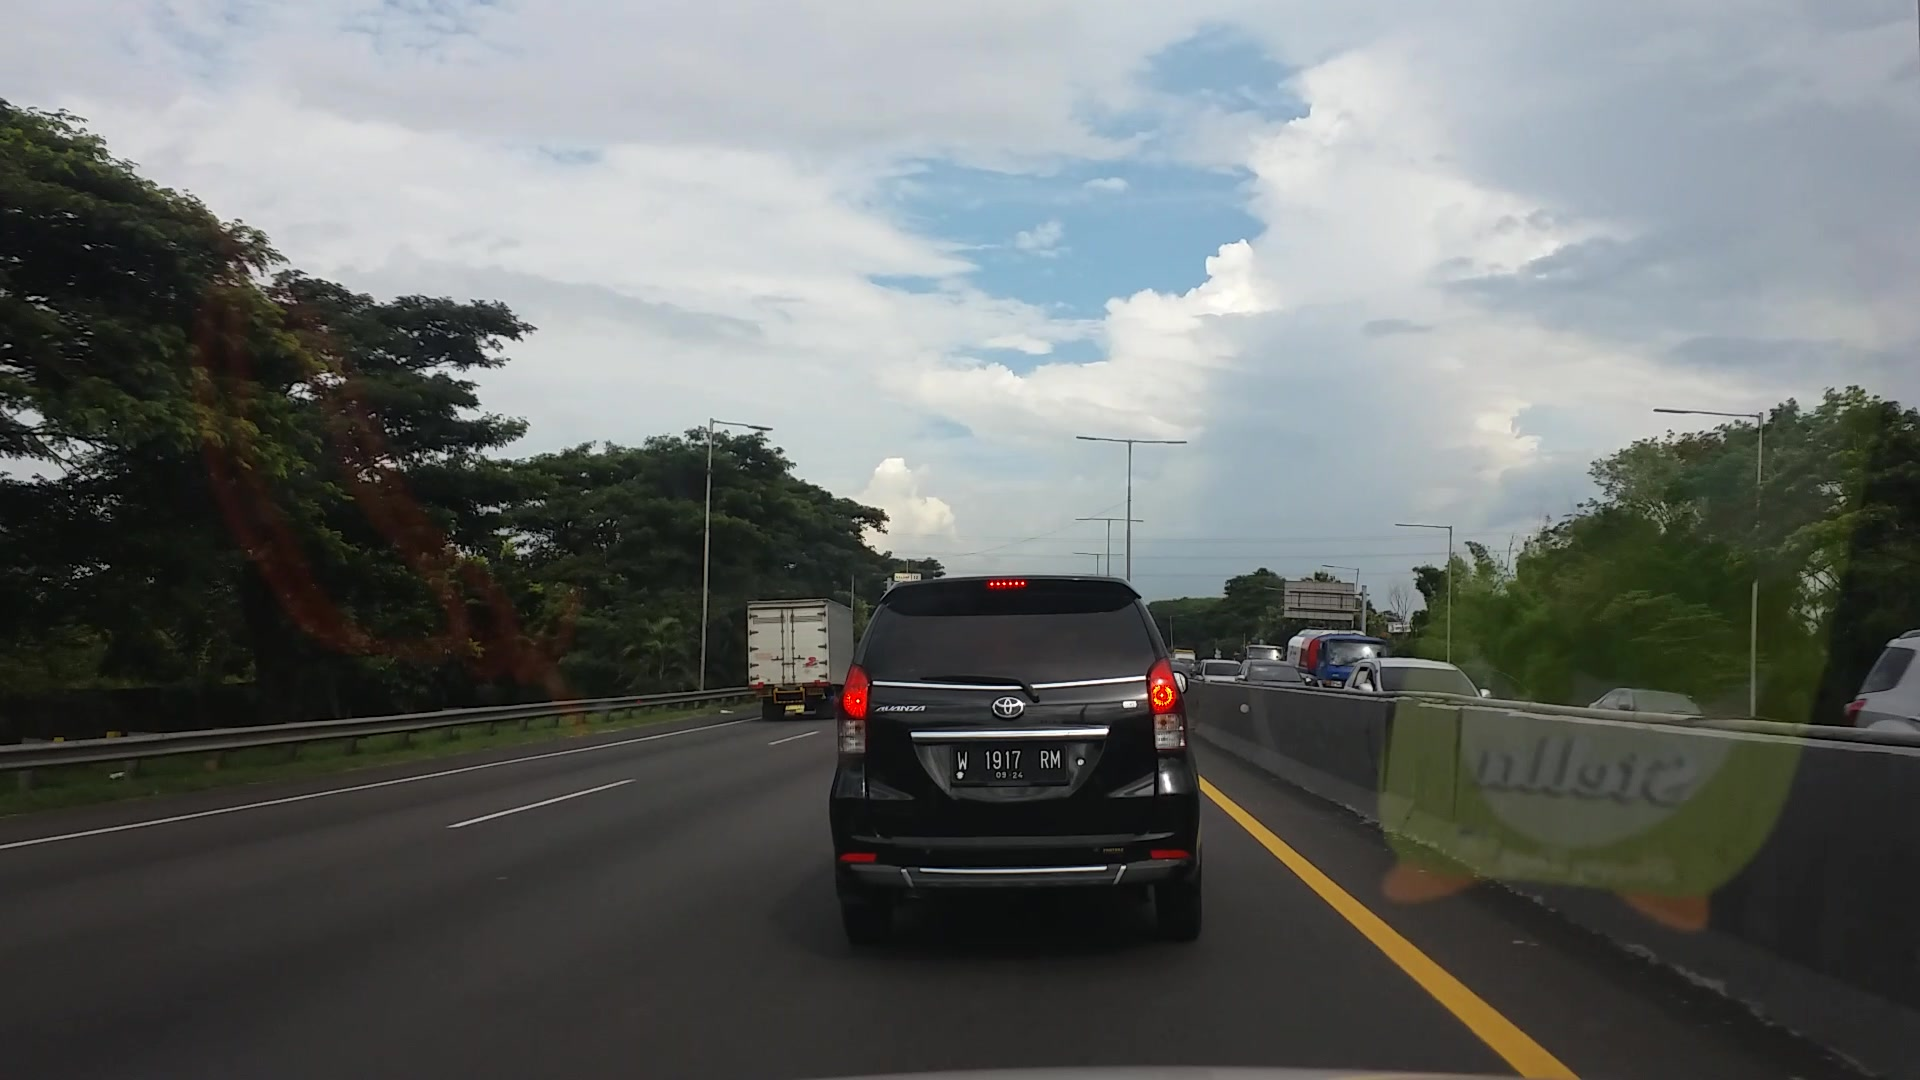plate_positive: (949, 741, 1069, 787)
